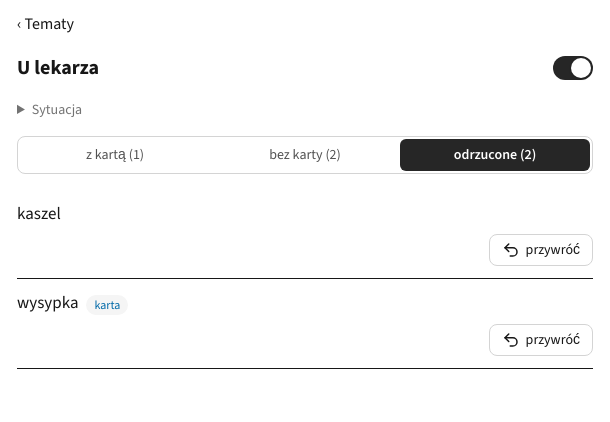
TopicPage › shows the server’s message when a restored card would be a duplicate
Check: the text "wysypka" is shown, box [17,291,78,314]
Step 1. Click the 2nd button "przywróć" → coordinates (541, 340), box [489,324,593,356]
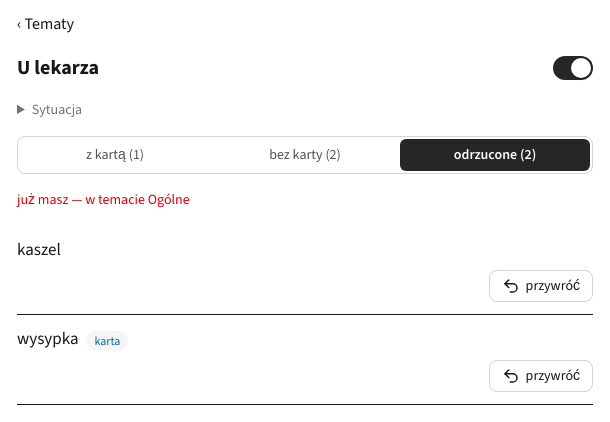
Check: the text "wysypka" is shown, box [17,327,78,350]
Check: the text "już masz — w temacie Ogólne" is shown, box [17,190,190,209]
